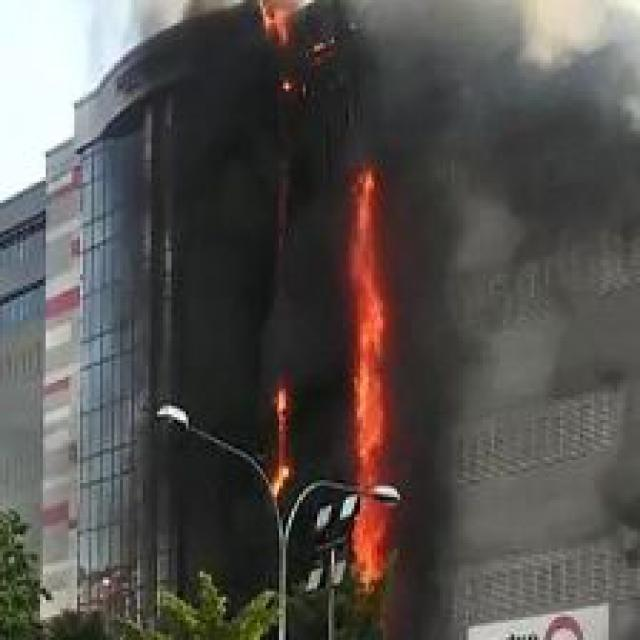fire: (320, 128, 411, 588)
